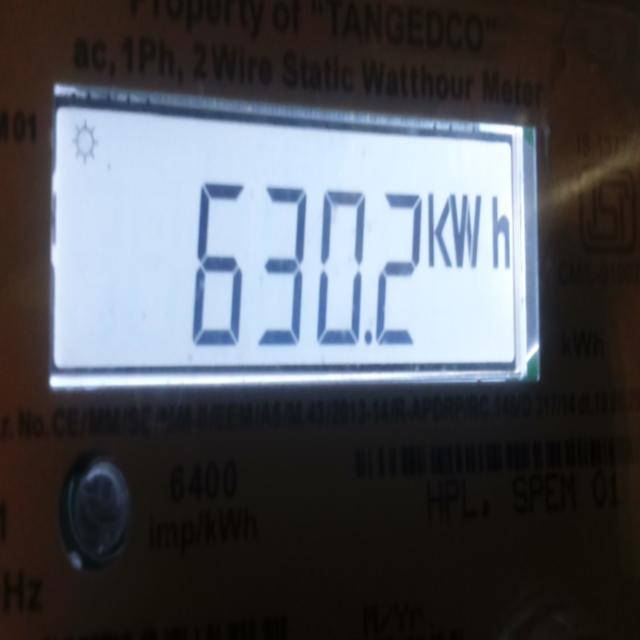.: (367, 331, 372, 345)
0: (319, 191, 363, 345)
2: (378, 193, 422, 347)
3: (262, 185, 304, 344)
6: (196, 182, 243, 342)
